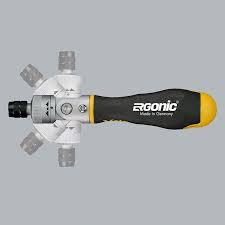screwdriver: (7, 87, 217, 129)
